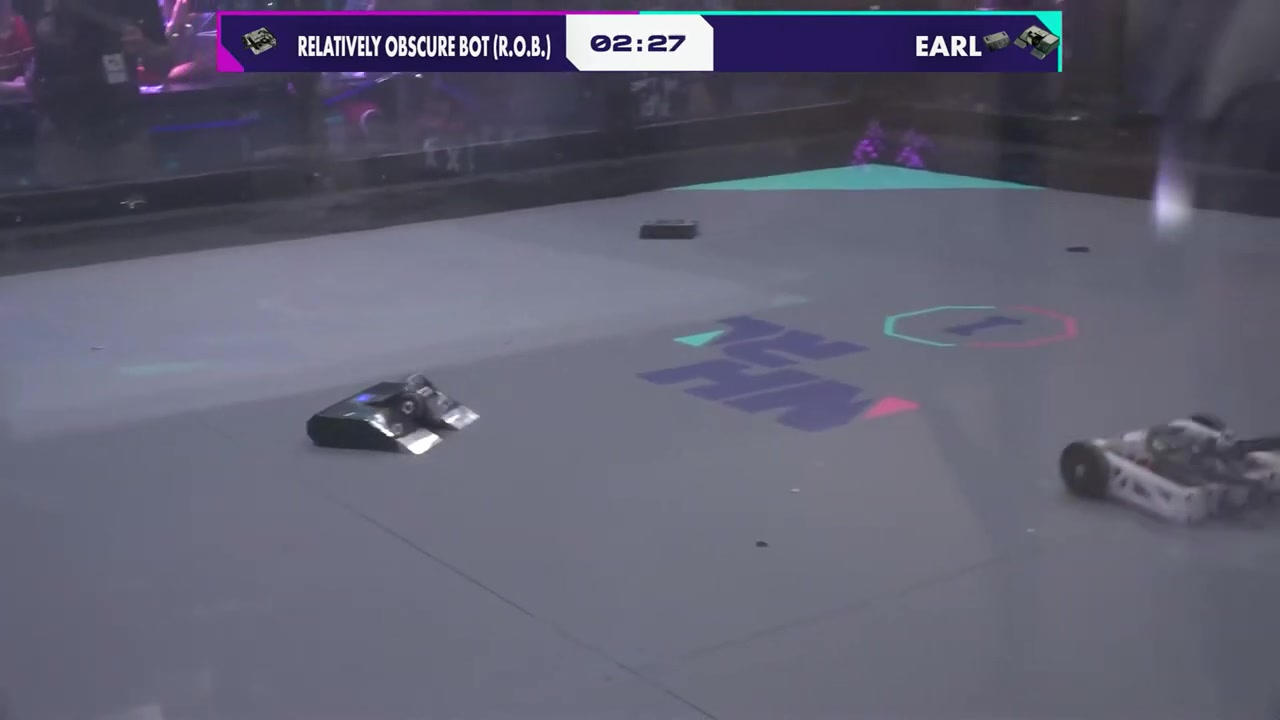combatbot: (1061, 412, 1280, 531), (306, 372, 477, 457)
minibot: (635, 216, 703, 244)
